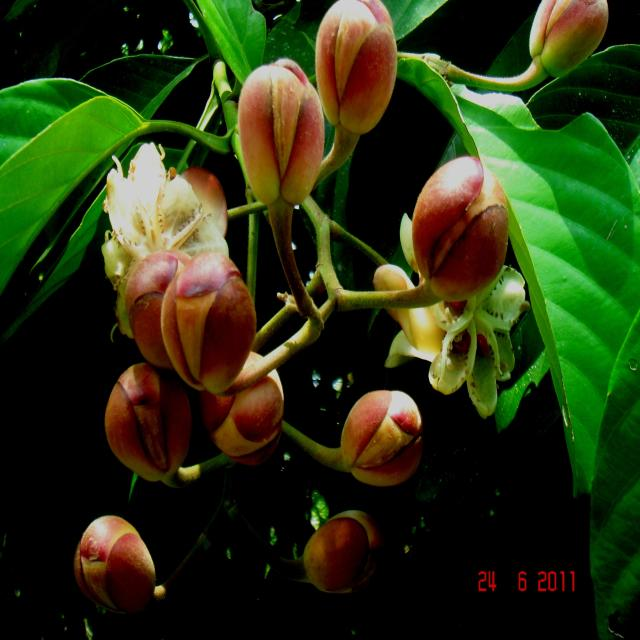Simpoh-Lak: (66, 9, 560, 511), (234, 40, 324, 212), (404, 173, 515, 305), (172, 234, 255, 389), (317, 0, 393, 152), (106, 357, 194, 482), (68, 506, 165, 616), (120, 240, 198, 368), (334, 388, 426, 492), (205, 350, 292, 458), (305, 506, 384, 605), (518, 0, 608, 86)
